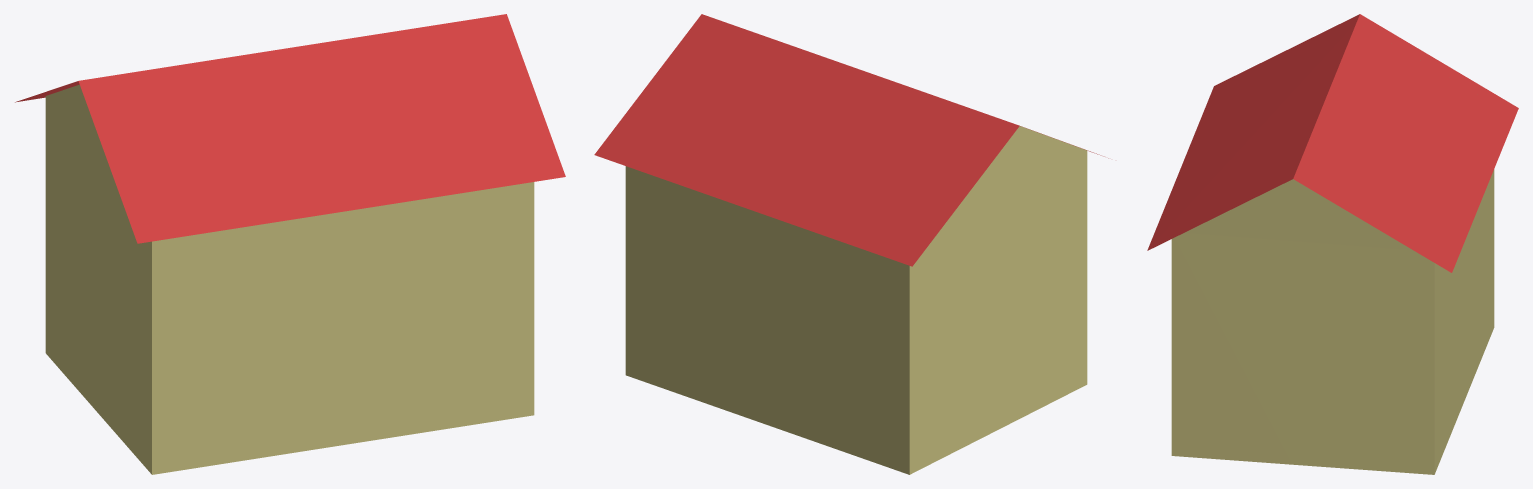
The picture shows the model from 3 angles, left to right: view 1: azimuth 30°, elevation 25°; view 2: azimuth 150°, elevation 25°; view 3: azimuth 270°, elevation 25°; orthographic projection. The views are drawn at different scales.
Size of the model in its own units: 15.57 by 13.08 by 11.44.
